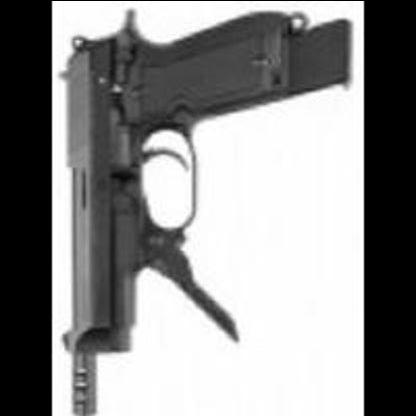weapon: (60, 5, 352, 416)
